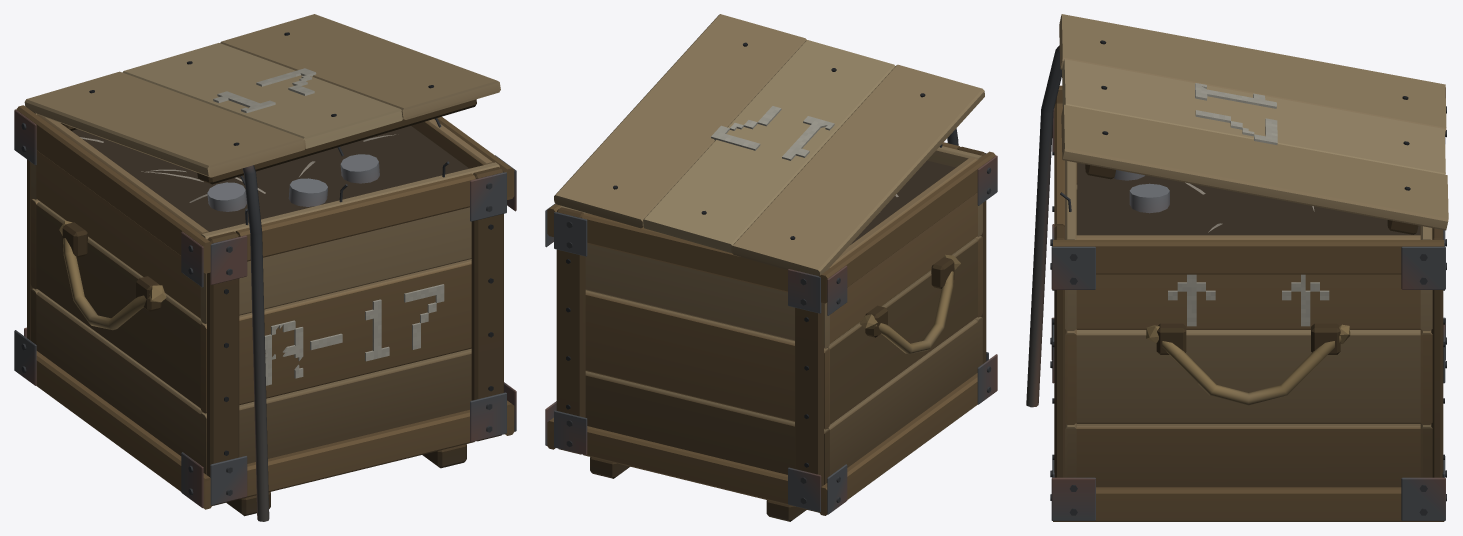
The model's file is wasteland_supply_crate.glb.
The picture shows the model from 3 angles, left to right: view 1: azimuth 30°, elevation 25°; view 2: azimuth 150°, elevation 25°; view 3: azimuth 270°, elevation 25°; orthographic projection. The views are drawn at different scales.
Parts seen in each view (by area): view 1: wasteland_supply_crate; view 2: wasteland_supply_crate; view 3: wasteland_supply_crate.
Boxes of the visible parts, left/top/right/bottom form: wasteland_supply_crate: left=14, top=14, right=516, bottom=521; wasteland_supply_crate: left=545, top=14, right=997, bottom=521; wasteland_supply_crate: left=1026, top=14, right=1448, bottom=521.
Size of the model in its own units: 0.7214 by 0.7267 by 0.7119.
